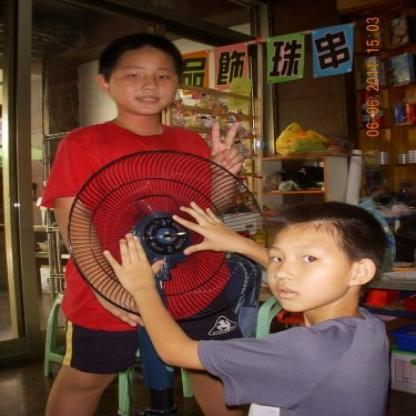fan: (69, 151, 260, 416)
